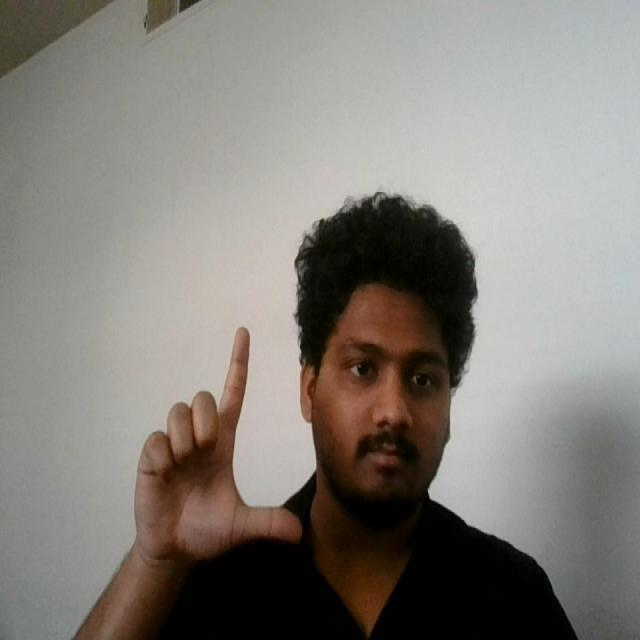IloveYou: (125, 315, 308, 567)
